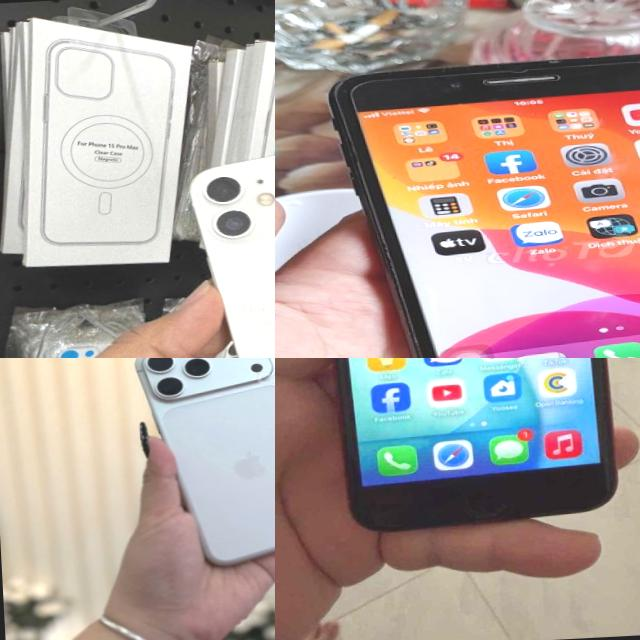physical_damage: (498, 62, 538, 78)
scratch: (312, 100, 399, 287), (374, 311, 451, 358), (319, 80, 364, 97), (527, 56, 567, 70), (430, 63, 466, 77)
